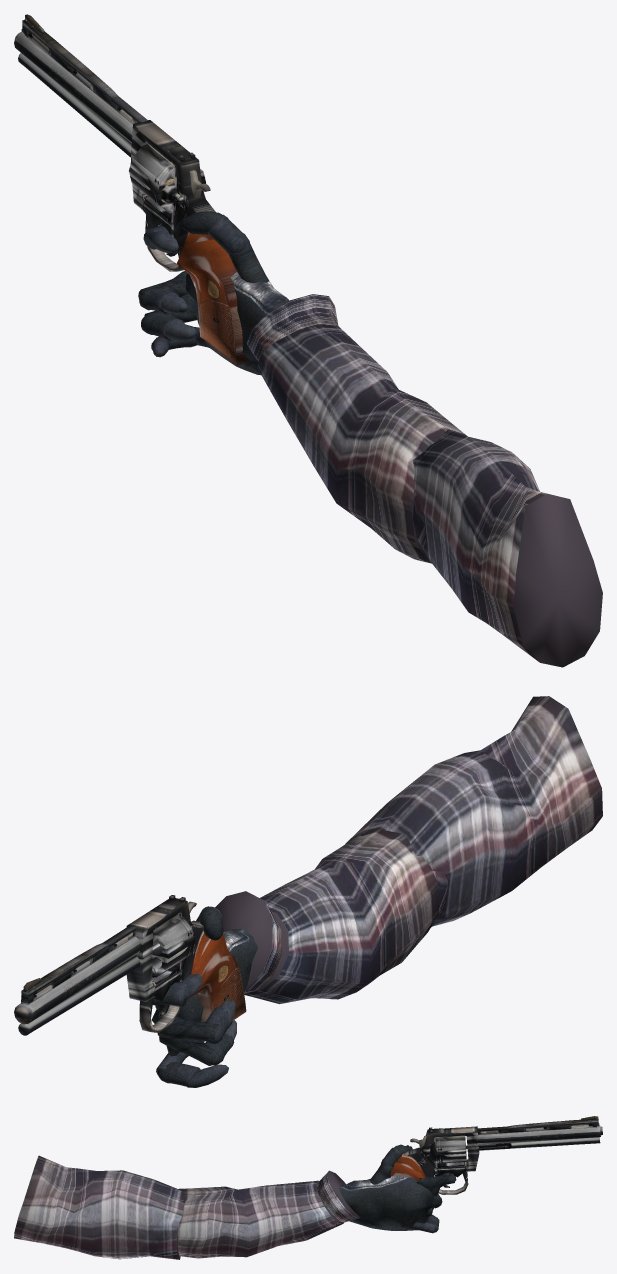
Rendered from python_ads_fire.fbx.
The picture shows the model from 3 angles, top to bottom: view 1: azimuth 30°, elevation 25°; view 2: azimuth 150°, elevation 25°; view 3: azimuth 270°, elevation 25°; orthographic projection. The views are drawn at different scales.
Visible parts, largest first — view 1: rupperarm, rforearm, PythonGrip, PythonBody, PythonBarrel, rhand, PythonFrontSight, PythonCylinder, rthumbmiddle, rthumbback; view 2: rupperarm, rforearm, PythonBarrel, PythonBody, PythonGrip, PythonFrontSight, PythonCylinder, rhand, rmfingerback, PythonTriggerGuard, rifingerback, rpinkymiddle (+3 smaller); view 3: rupperarm, rforearm, rhand, PythonBody, PythonBarrel, PythonFrontSight, PythonCylinder, rpfingerback, PythonGrip, rthumbback, rthumbmiddle.
Boxes of the visible parts, <box> form: rupperarm: <box>412,430,602,667</box>; rforearm: <box>246,294,467,563</box>; PythonGrip: <box>177,239,250,365</box>; PythonBody: <box>130,120,215,257</box>; PythonBarrel: <box>14,32,132,157</box>; rhand: <box>185,272,289,375</box>; PythonFrontSight: <box>21,14,148,124</box>; PythonCylinder: <box>129,144,205,213</box>; rthumbmiddle: <box>207,214,249,253</box>; rthumbback: <box>228,243,268,283</box>; rupperarm: <box>345,696,602,926</box>; rforearm: <box>215,829,438,1004</box>; PythonBarrel: <box>14,936,140,1035</box>; PythonBody: <box>126,899,210,1001</box>; PythonGrip: <box>190,935,246,1022</box>; PythonFrontSight: <box>21,926,135,1005</box>; PythonCylinder: <box>152,915,194,977</box>; rhand: <box>151,929,257,1057</box>; rmfingerback: <box>157,1016,219,1041</box>; PythonTriggerGuard: <box>139,997,180,1032</box>; rifingerback: <box>159,1036,214,1065</box>; rpinkymiddle: <box>157,1062,200,1087</box>; rupperarm: <box>14,1155,184,1259</box>; rforearm: <box>177,1170,359,1258</box>; rhand: <box>339,1176,435,1230</box>; PythonBody: <box>396,1126,479,1178</box>; PythonBarrel: <box>475,1125,602,1150</box>; PythonFrontSight: <box>477,1116,599,1134</box>; PythonCylinder: <box>435,1136,467,1163</box>; rpfingerback: <box>416,1173,454,1196</box>; PythonGrip: <box>390,1162,423,1181</box>; rthumbback: <box>370,1164,413,1186</box>; rthumbmiddle: <box>381,1147,401,1166</box>.
Bounding box in the file's own units: 4.32 × 8.95 × 33.89.
